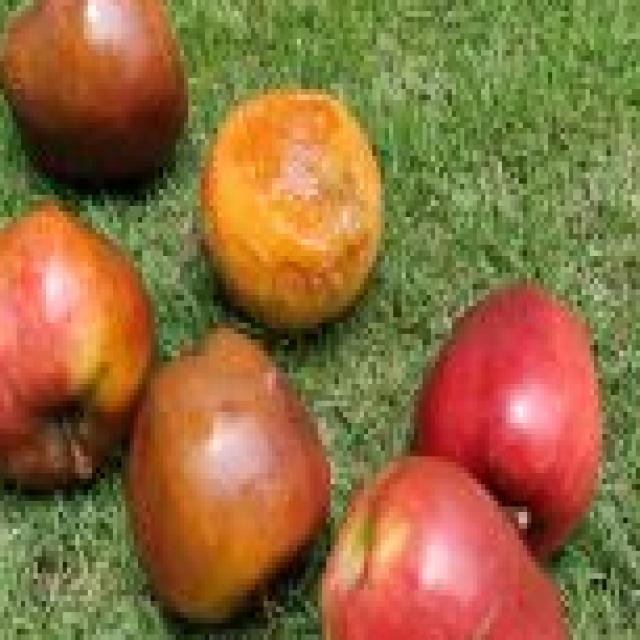Bad_Apple 0-1 day: (201, 97, 381, 327)
Good_Apple 10-21 days: (320, 284, 602, 640)
